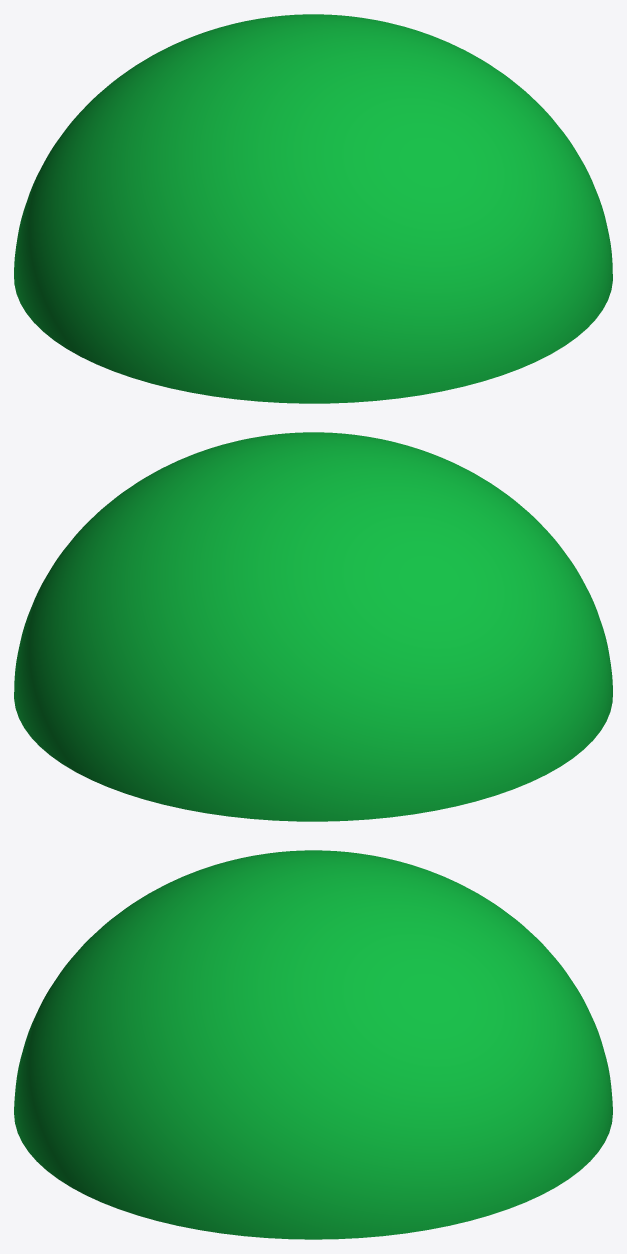
The model's file is explosed-ball.fbx.
3 views of the same model, one above another, from view 1: azimuth 30°, elevation 25°; view 2: azimuth 150°, elevation 25°; view 3: azimuth 270°, elevation 25° (orthographic).
Visible parts, largest first — view 1: root; view 2: root; view 3: root.
Part boxes in pixels (bbox=[...]): root: bbox=[14, 14, 612, 403]; root: bbox=[14, 432, 612, 821]; root: bbox=[14, 850, 612, 1239].
Bounding box in the file's own units: 0.1165 × 0.0493 × 0.1165.
1 material, 1 textured.
